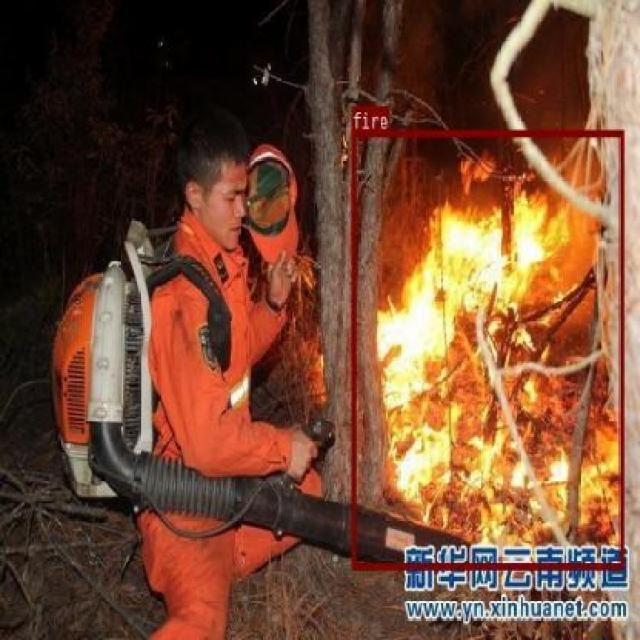Fire: (351, 128, 624, 568)
